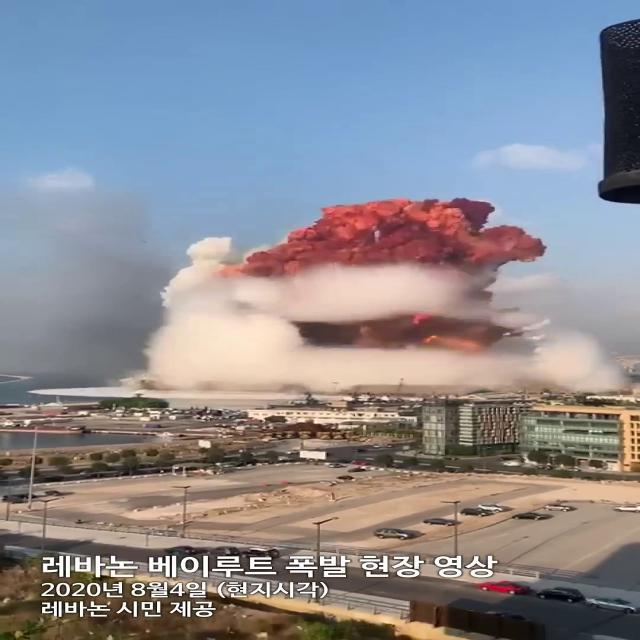explosion: (111, 188, 640, 428)
